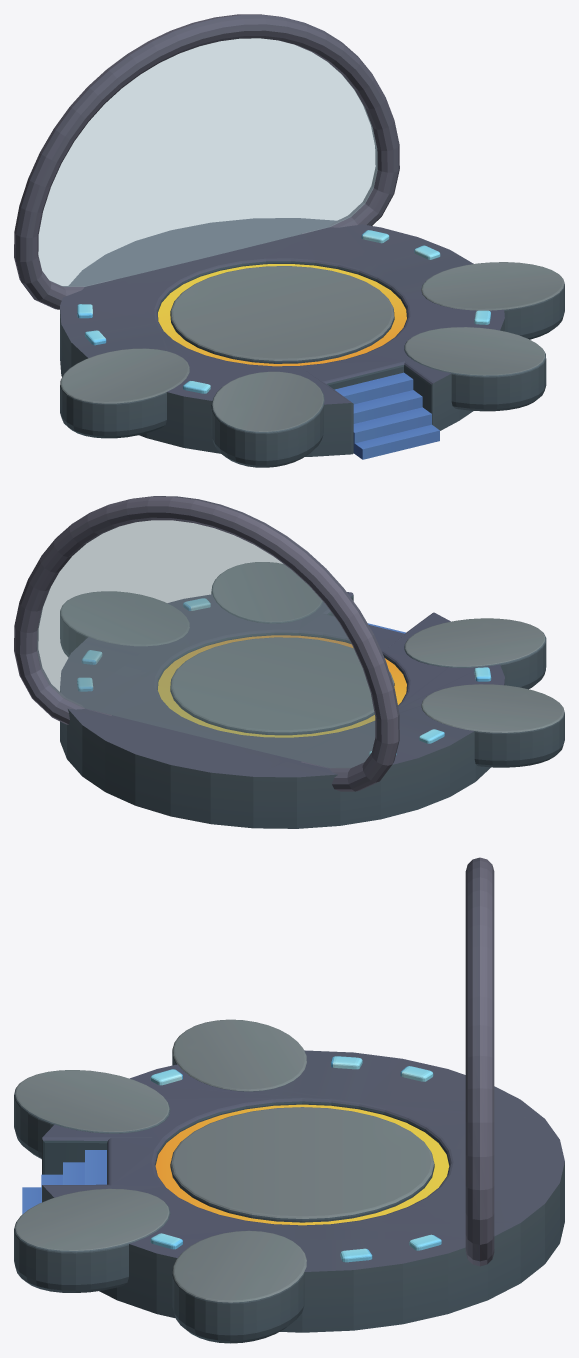
The model's file is Stage5.fbx.
3 views of the same model, one above another, from view 1: azimuth 30°, elevation 25°; view 2: azimuth 150°, elevation 25°; view 3: azimuth 270°, elevation 25° (orthographic). The views are drawn at different scales.
Visible parts, largest first — view 1: Stage_Black_0, Stage_Screen_0, Stage_Red_0, Stage_Blue_0; view 2: Stage_Black_0, Stage_Screen_0, Stage_Red_0, Stage_Blue_0; view 3: Stage_Black_0, Stage_Red_0, Stage_Blue_0.
Boxes of the visible parts, x1,y1,x2,y2 form: Stage_Black_0: (14, 14, 564, 467); Stage_Screen_0: (38, 38, 377, 286); Stage_Red_0: (158, 264, 406, 366); Stage_Blue_0: (77, 230, 490, 393); Stage_Black_0: (14, 496, 564, 828); Stage_Screen_0: (37, 520, 375, 768); Stage_Red_0: (158, 635, 406, 737); Stage_Blue_0: (77, 598, 491, 755); Stage_Black_0: (14, 857, 564, 1343); Stage_Red_0: (155, 1104, 449, 1225); Stage_Blue_0: (150, 1056, 441, 1262).
Size of the model in its own units: 459 by 256 by 378.
2 materials, 1 textured.
